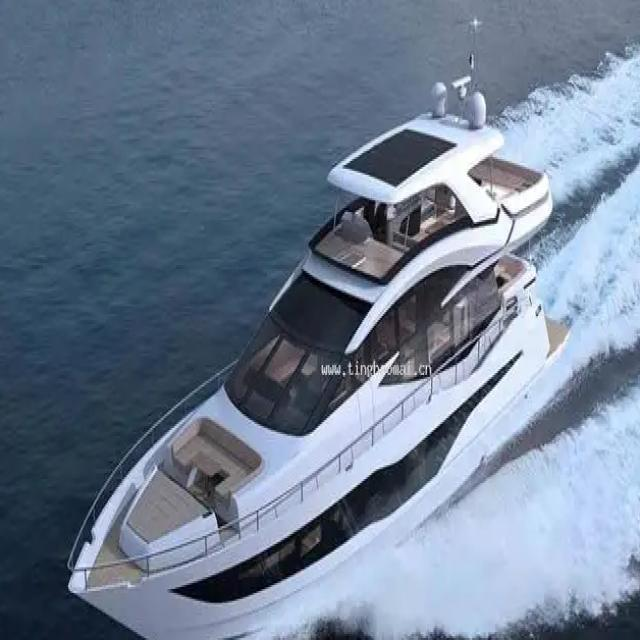houseboat: (66, 77, 568, 640)
